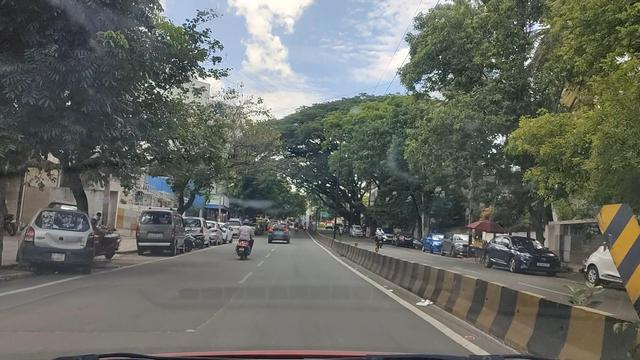LMV: (19, 207, 101, 271), (235, 211, 258, 262)
